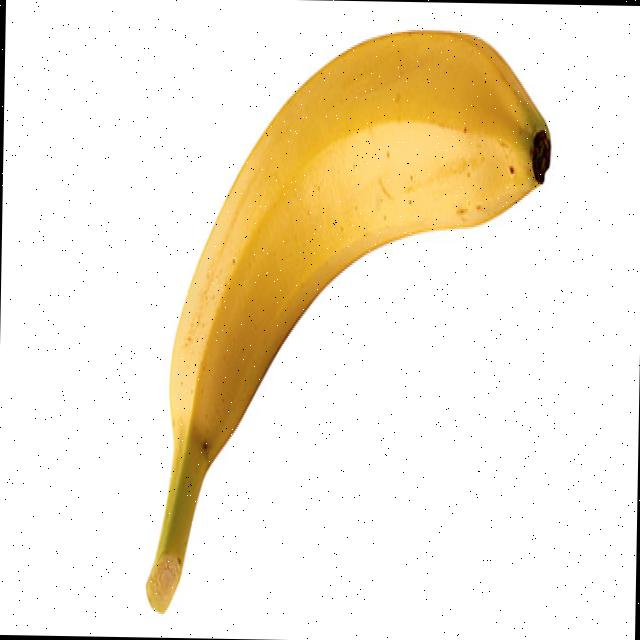Pisang: (145, 25, 554, 622)
